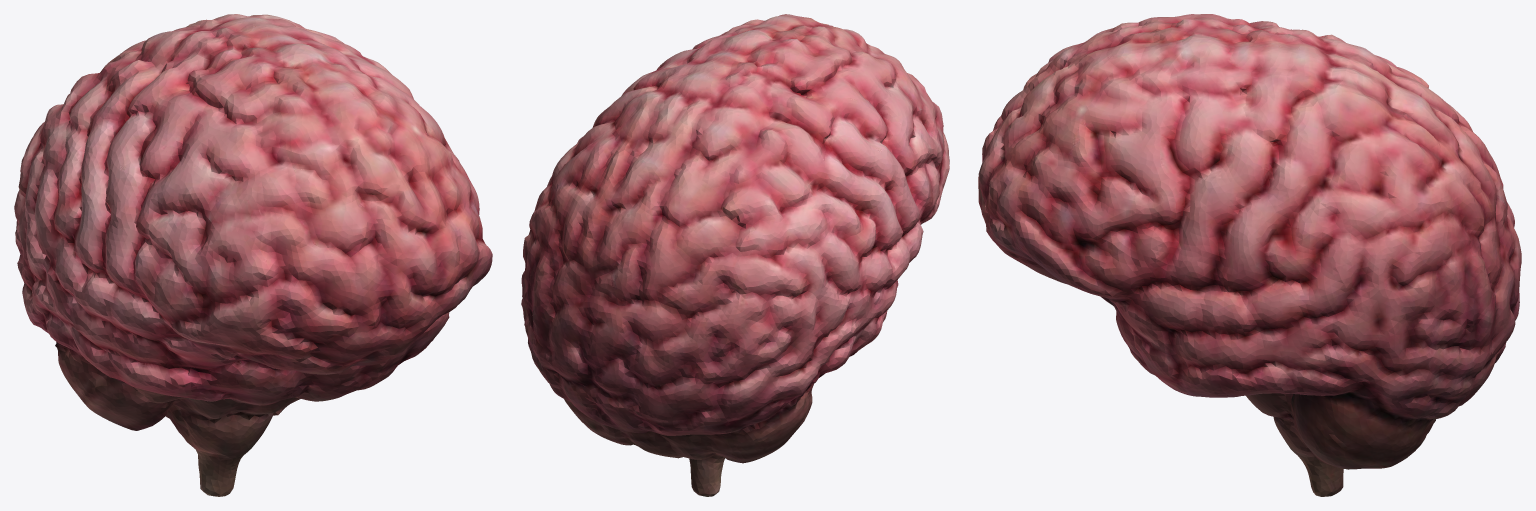
The model's file is brain_0328071638.glb.
3 renders of one model, left to right at view 1: azimuth 30°, elevation 25°; view 2: azimuth 150°, elevation 25°; view 3: azimuth 270°, elevation 25°, orthographic. The views are drawn at different scales.
Bounding box in the file's own units: 1.3 × 1.62 × 1.73.
Materials: 1 (1 with a texture image).
